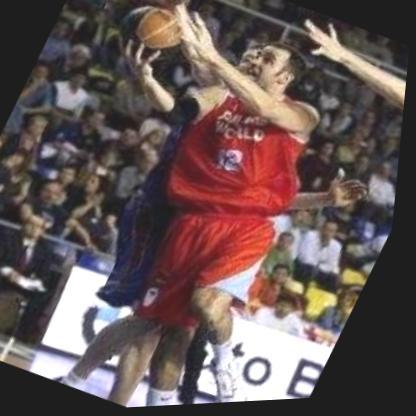basketball: (106, 0, 199, 76)
